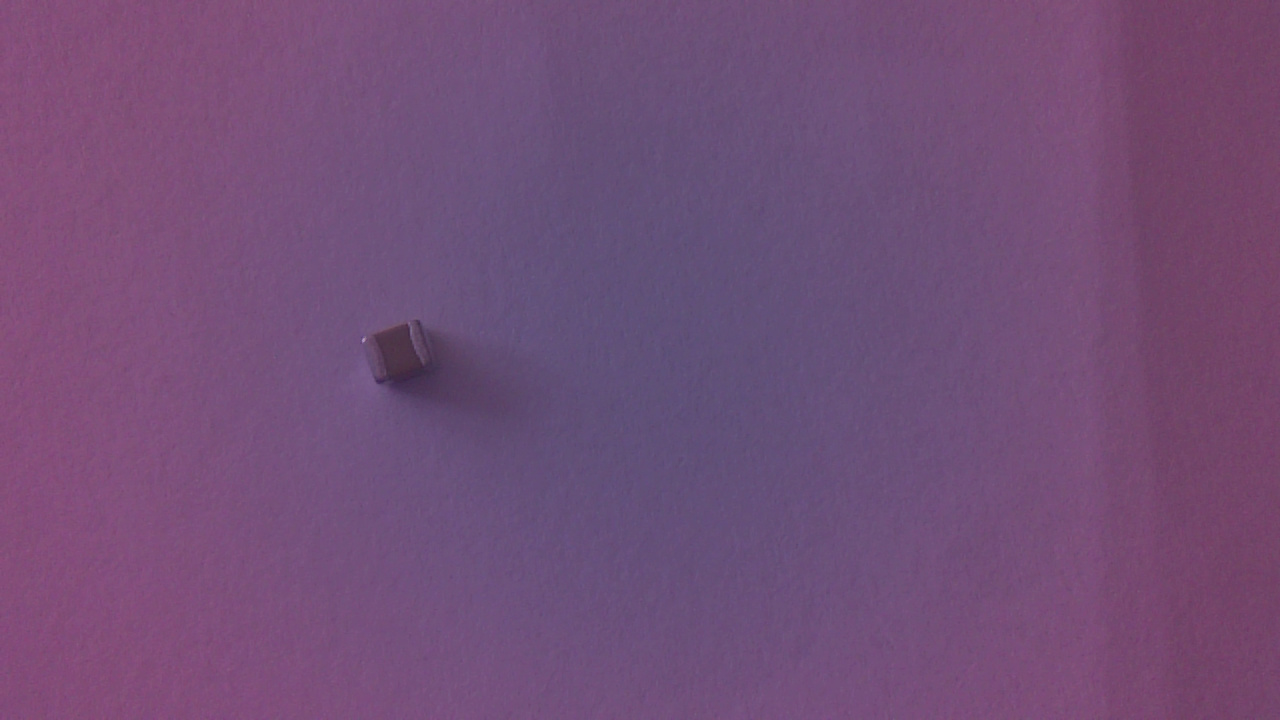Condensator: (360, 320, 447, 394)
